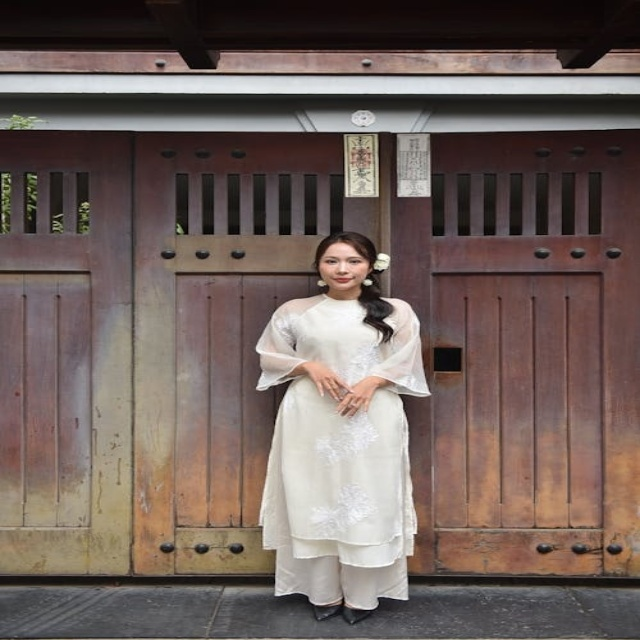Sin_gafas: (317, 252, 367, 267)
Sin_guantes: (333, 378, 383, 420), (301, 358, 349, 397)
Sin_mascara: (326, 275, 358, 290)
